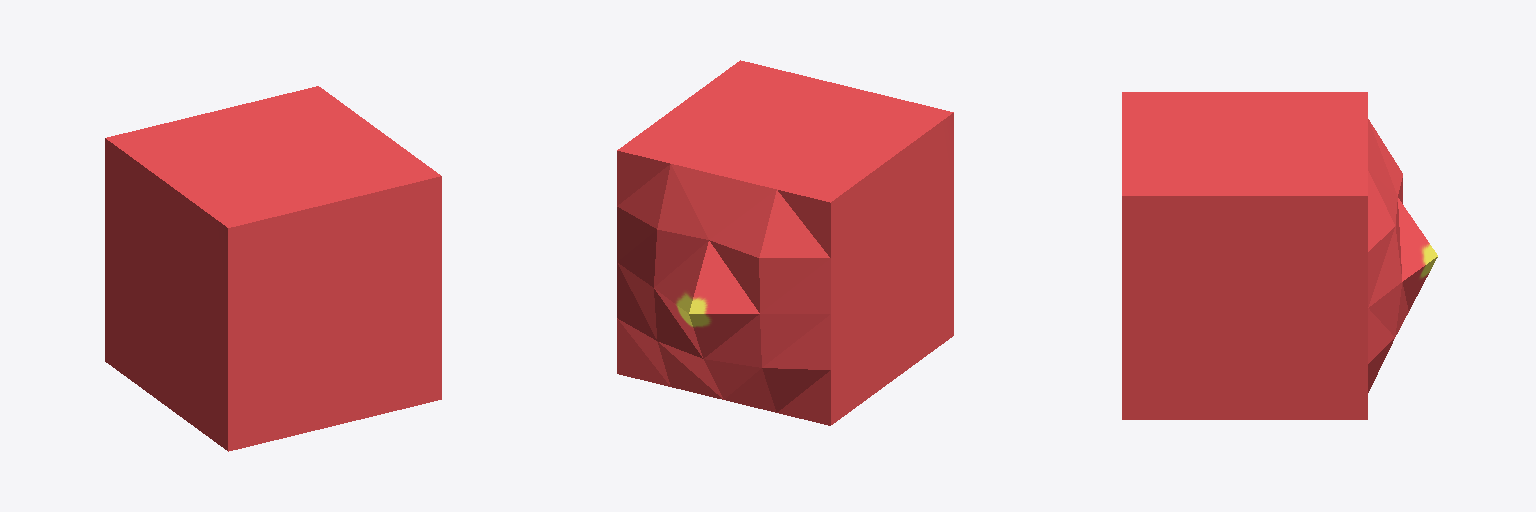
3 renders of one model, left to right at view 1: azimuth 30°, elevation 25°; view 2: azimuth 150°, elevation 25°; view 3: azimuth 270°, elevation 25°, orthographic.
Visible parts, largest first — view 1: 立方体.001; view 2: 立方体.001; view 3: 立方体.001.
Boxes of the visible parts, <box> form: 立方体.001: <box>105,86,441,451</box>; 立方体.001: <box>617,60,953,425</box>; 立方体.001: <box>1122,92,1437,419</box>.
Bounding box in the file's own units: 2 × 2 × 2.57.
1 materials, 1 textured.